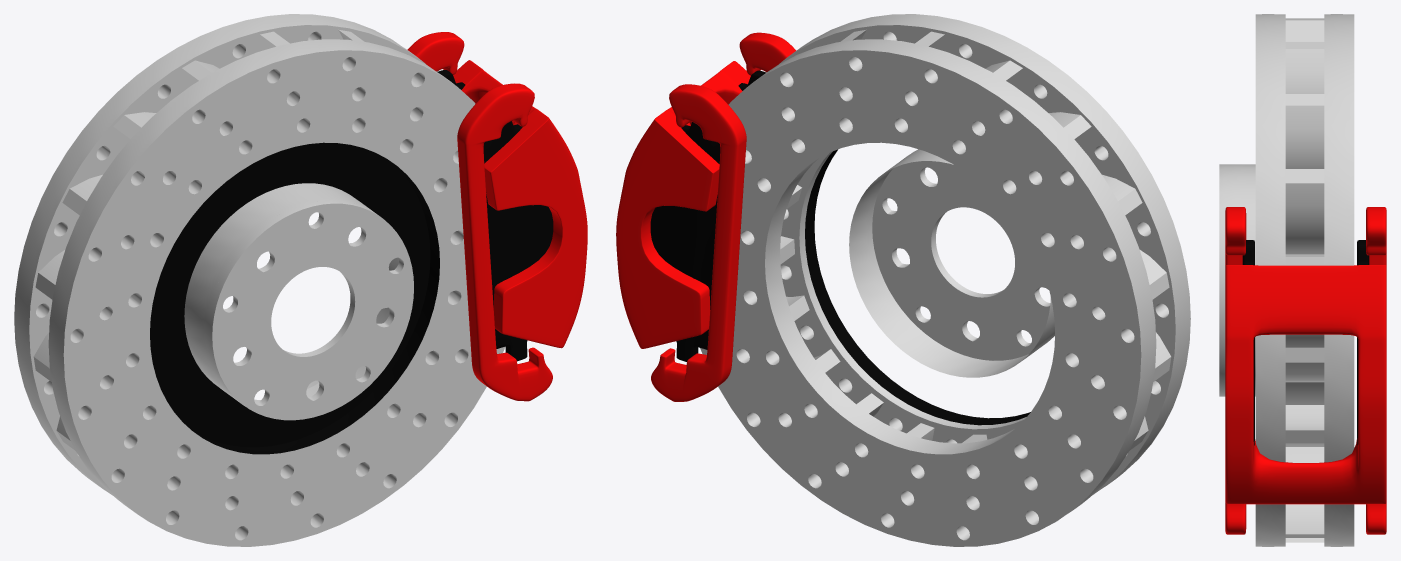
Rendered from disk.glb.
3 renders of one model, left to right at view 1: azimuth 30°, elevation 25°; view 2: azimuth 150°, elevation 25°; view 3: azimuth 270°, elevation 25°, orthographic.
Parts seen in each view (by area): view 1: Disk, Caliper; view 2: Disk, Caliper; view 3: Disk, Caliper.
Boxes of the visible parts, x1=… form: Disk: x1=14, y1=14, x2=505, y2=546; Caliper: x1=407, y1=32, x2=587, y2=401; Disk: x1=700, y1=14, x2=1190, y2=546; Caliper: x1=616, y1=32, x2=796, y2=401; Disk: x1=1219, y1=14, x2=1354, y2=546; Caliper: x1=1225, y1=207, x2=1386, y2=534.
Bounding box in the file's own units: 321 × 291 × 91.55.
